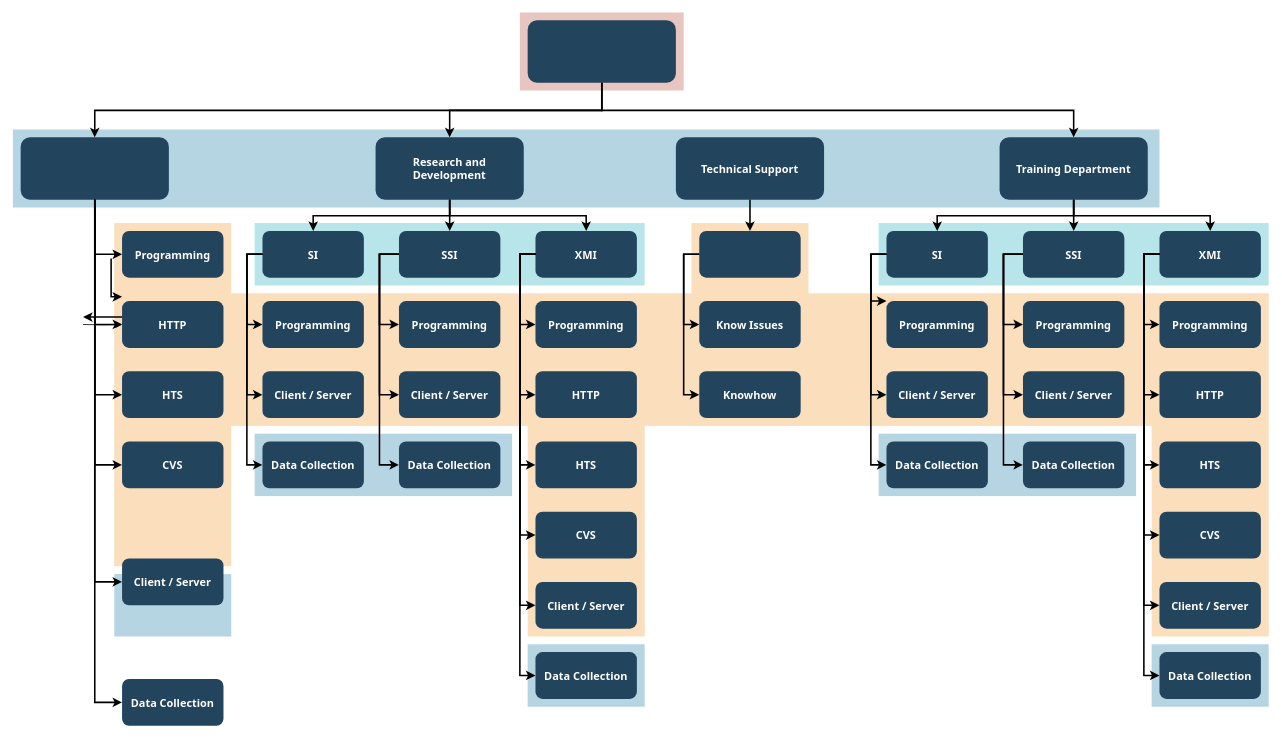
This 1282x739 diagram has some shape labels left out. The centre of each missing label's shape, as x and y in pixels:
"FAQ" goes at (749,253).
"Human Resources" goes at (94,168).
"좌석 예약 사이트" goes at (601,51).
